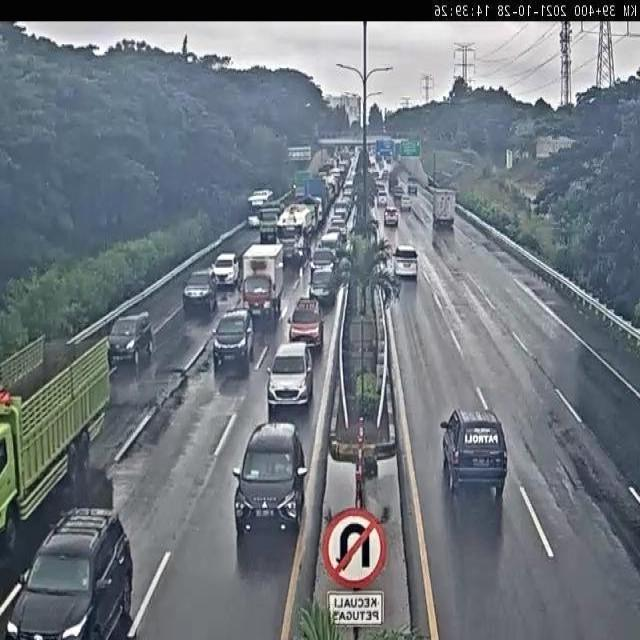Bus: (247, 188, 274, 230)
Car: (6, 506, 133, 638), (233, 420, 309, 538), (440, 408, 509, 498), (266, 338, 316, 414), (107, 307, 154, 366), (212, 308, 254, 372), (288, 300, 324, 350), (182, 268, 218, 315), (308, 268, 335, 306), (212, 253, 239, 287), (393, 245, 419, 280), (311, 247, 337, 278), (317, 232, 341, 256), (326, 224, 344, 250), (330, 218, 348, 241), (332, 200, 348, 224), (383, 204, 399, 227), (400, 194, 411, 212), (393, 184, 403, 202), (330, 214, 343, 226), (639, 27, 640, 81)
Truck: (0, 334, 108, 558), (241, 242, 287, 324), (276, 203, 314, 263), (257, 202, 286, 244), (303, 177, 328, 224), (430, 188, 456, 230), (291, 170, 313, 200), (408, 176, 418, 196)
Van: (377, 190, 387, 208)
